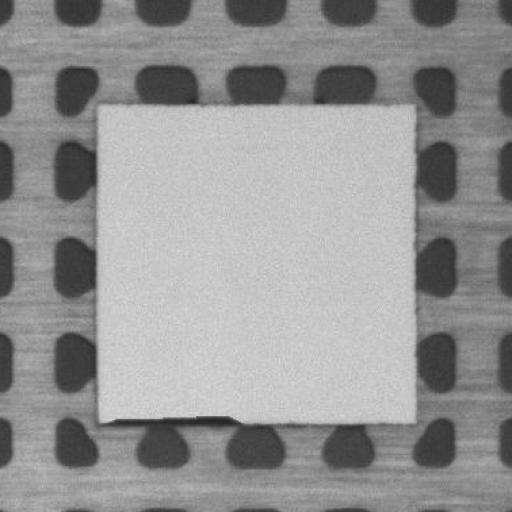DIE_BROKEN: (108, 407, 246, 427)
